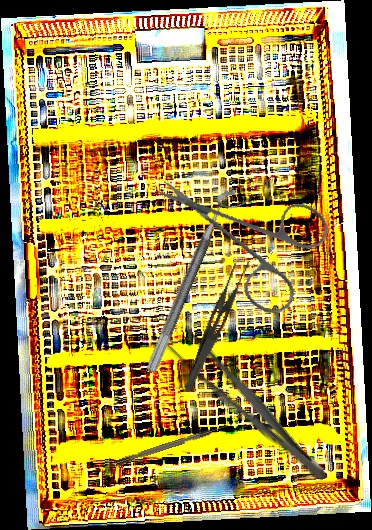Dressing Forceps: (158, 321, 337, 491), (184, 254, 252, 398)
Fixation Ring: (144, 184, 250, 381)
Hook Surgical: (114, 423, 230, 466)
Iris Scissors: (155, 143, 347, 335)
